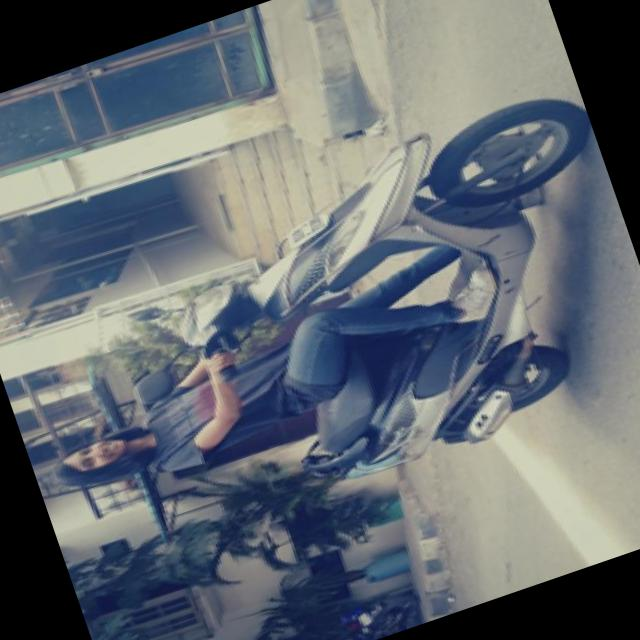bareface: (42, 422, 152, 495)
